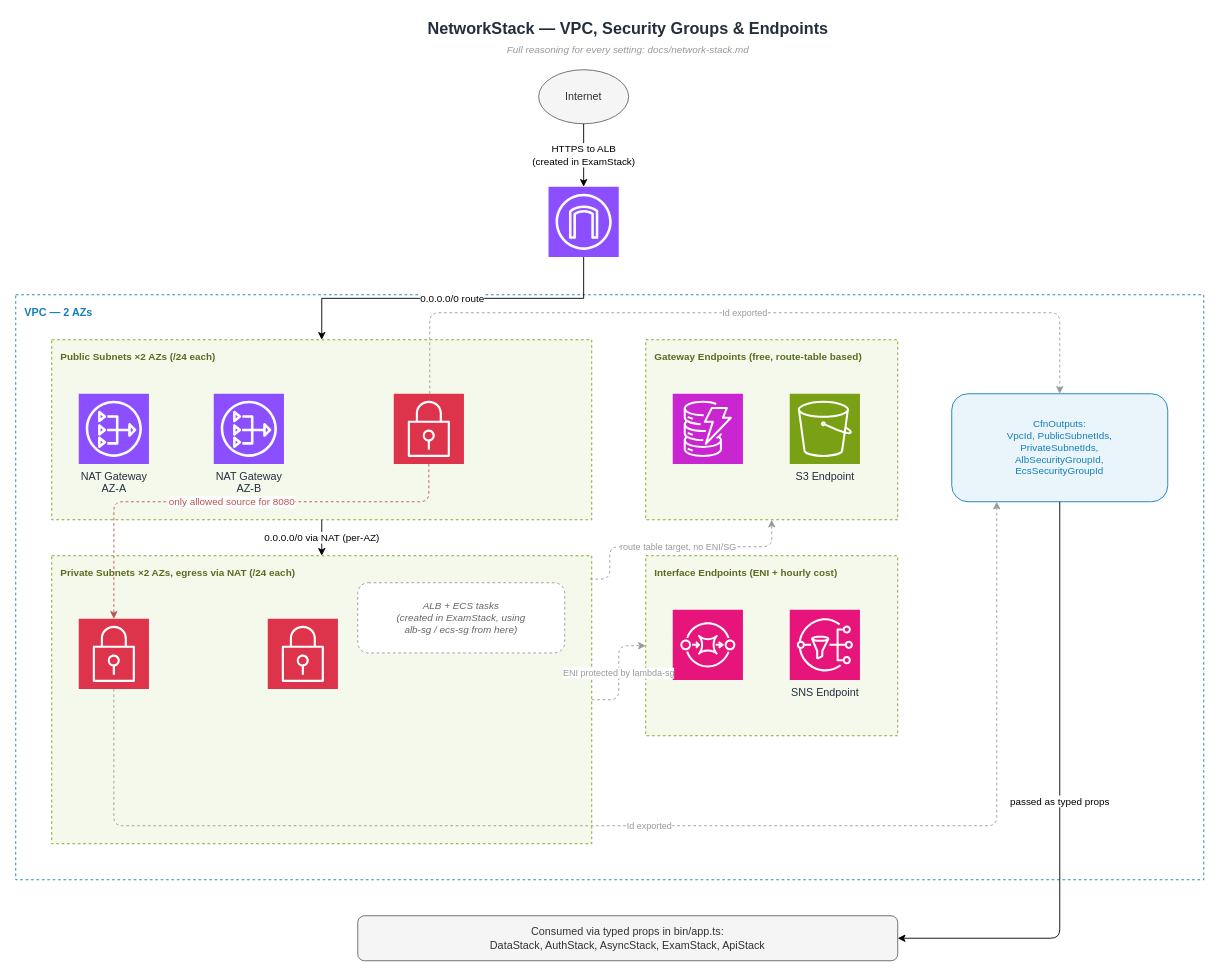
Some shapes in this 1220 by 977 pixel diagram are drawn without their labels. The shapes that lost their labels are listed below. From the top down, each one's centre as x and y in pixels, then its label:
the point at 583,221: Internet Gateway
the point at 428,428: alb-sg 80/443 from 0.0.0.0/0
the point at 707,428: DynamoDB Endpoint
the point at 113,653: ecs-sg 8080 from alb-sg only
the point at 302,653: lambda-sg no ingress — attached to interface endpoints
the point at 707,644: SQS Endpoint
